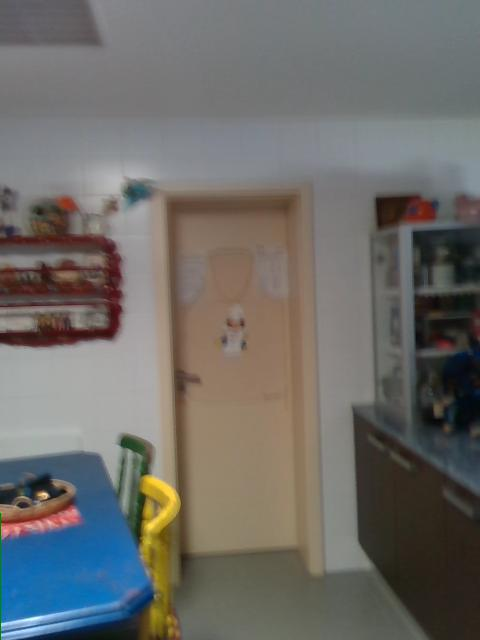door: (177, 208, 300, 555)
